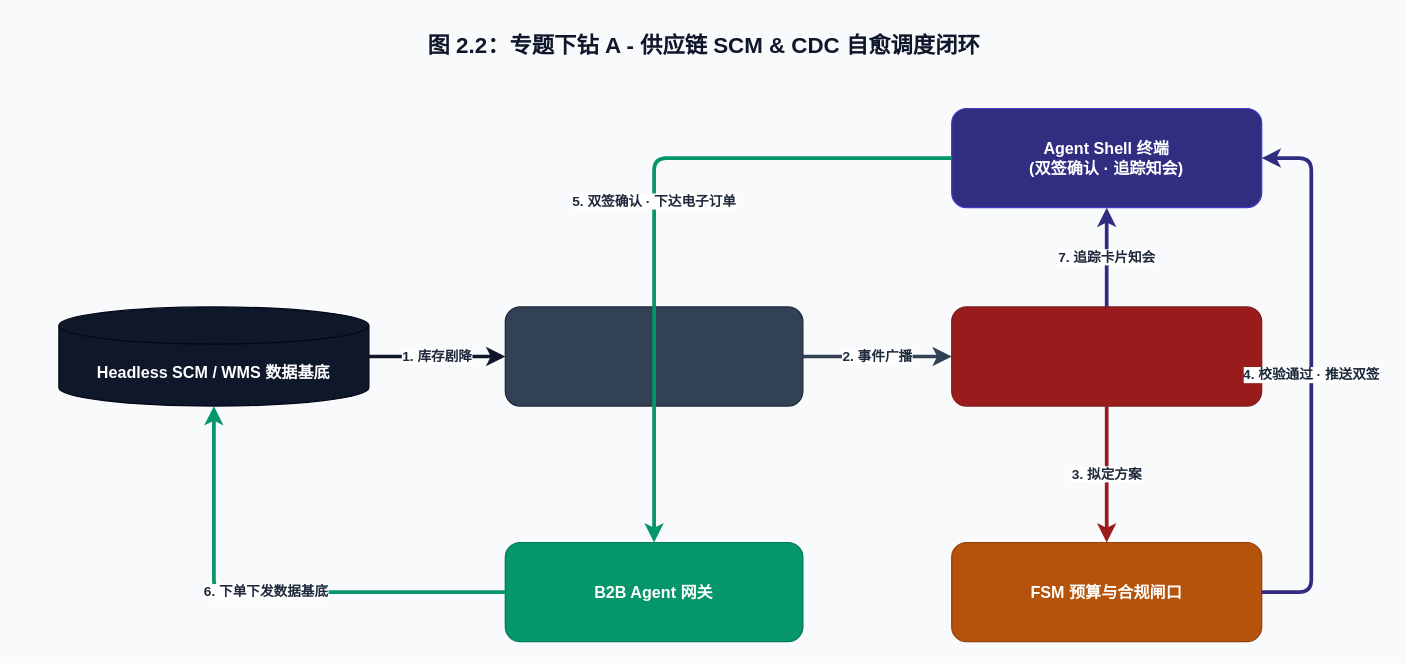
This 1406x663 diagram has some shape labels left out. Each missing label, with the box of its shape:
Data CDC 变更感知: (504, 306, 803, 406)
Supply Agent 调度内核: (950, 306, 1262, 406)
